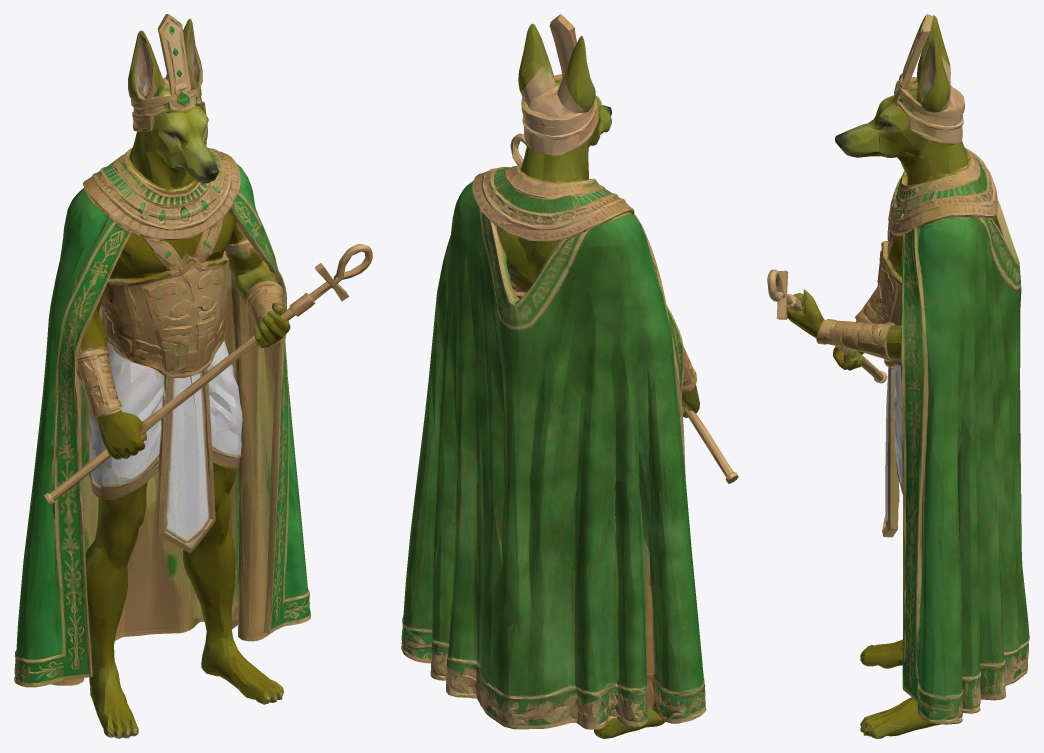
The model's file is et_king.glb.
3 views of the same model, side by side, from view 1: azimuth 30°, elevation 25°; view 2: azimuth 150°, elevation 25°; view 3: azimuth 270°, elevation 25° (orthographic). The views are drawn at different scales.
Bounding box in the file's own units: 0.8486 × 1.9 × 0.6589.
1 material, 1 textured.
